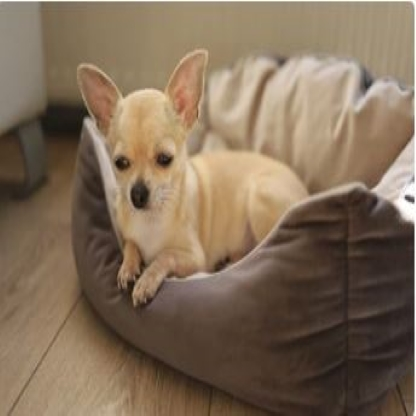chihuahua: (76, 46, 312, 305)
